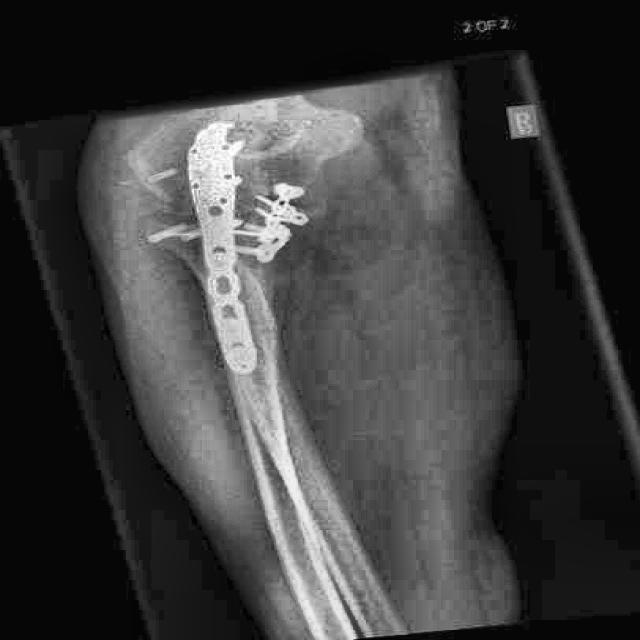elbow positive: (120, 177, 200, 236)
